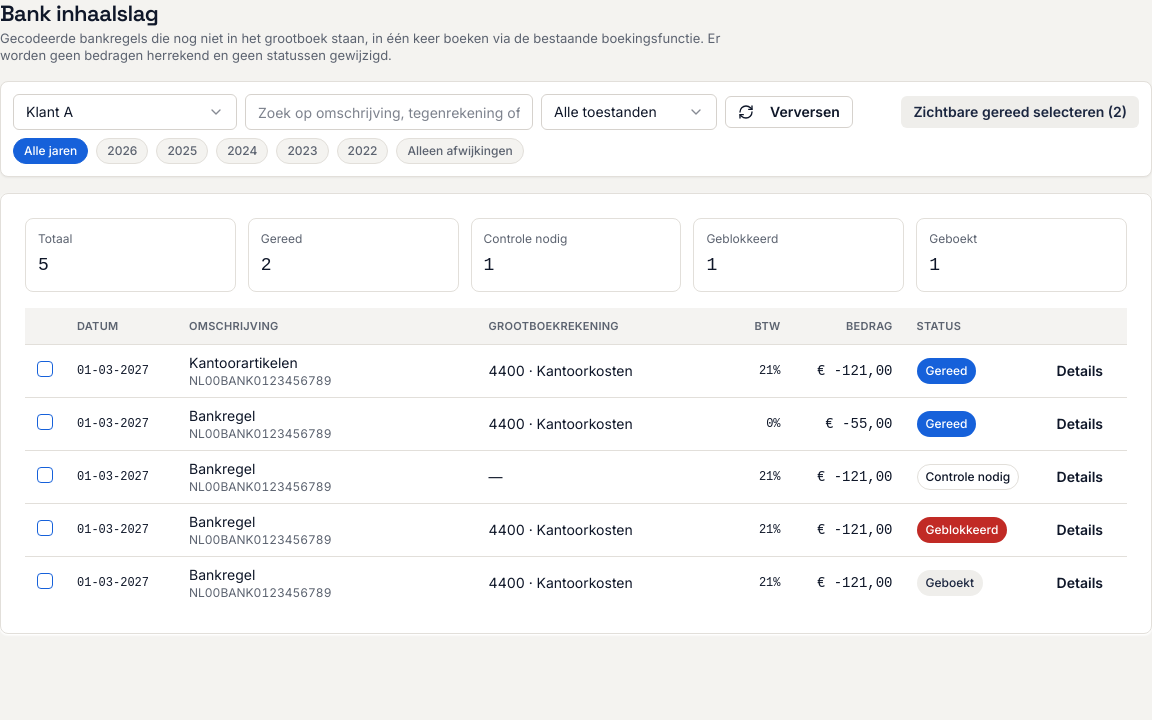
bevestiging en aanroep › 9. de dialoog noemt het werkelijke aantal
Click the checkbox with test id "inhaalslag-checkbox" in the row of "Kantoorartikelen".
click(45, 369)  # box [37, 361, 53, 377]
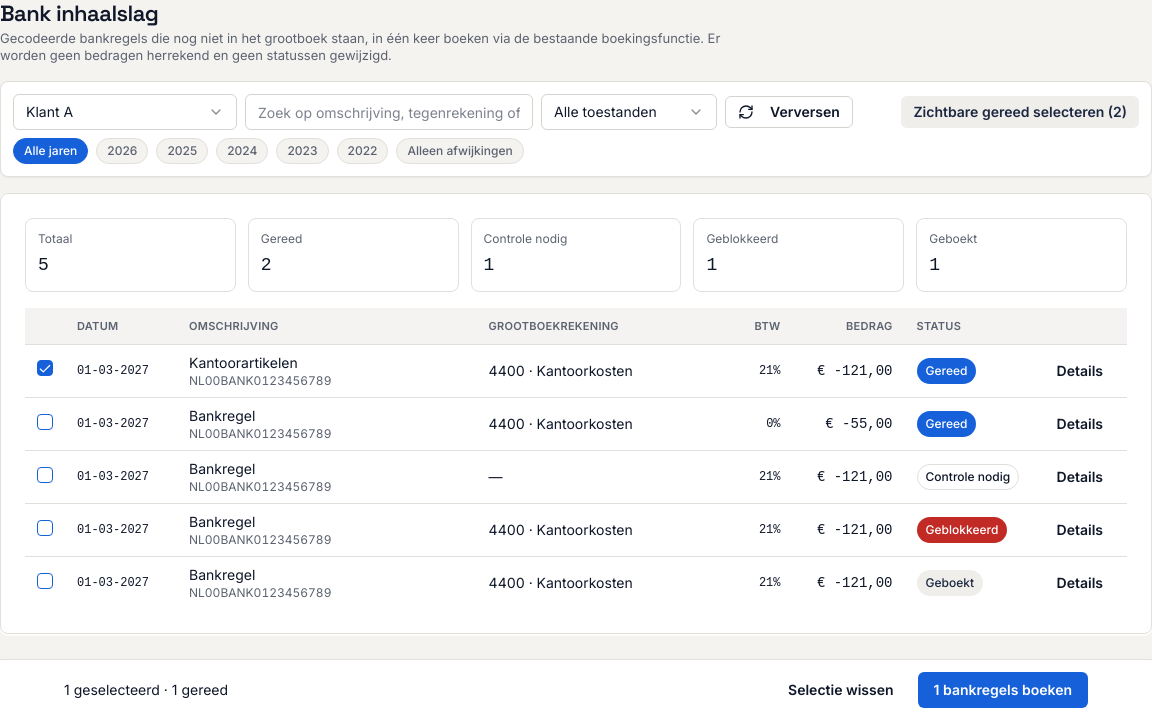
Click the 2nd checkbox with test id "inhaalslag-checkbox".
click(45, 422)  # box [37, 414, 53, 430]
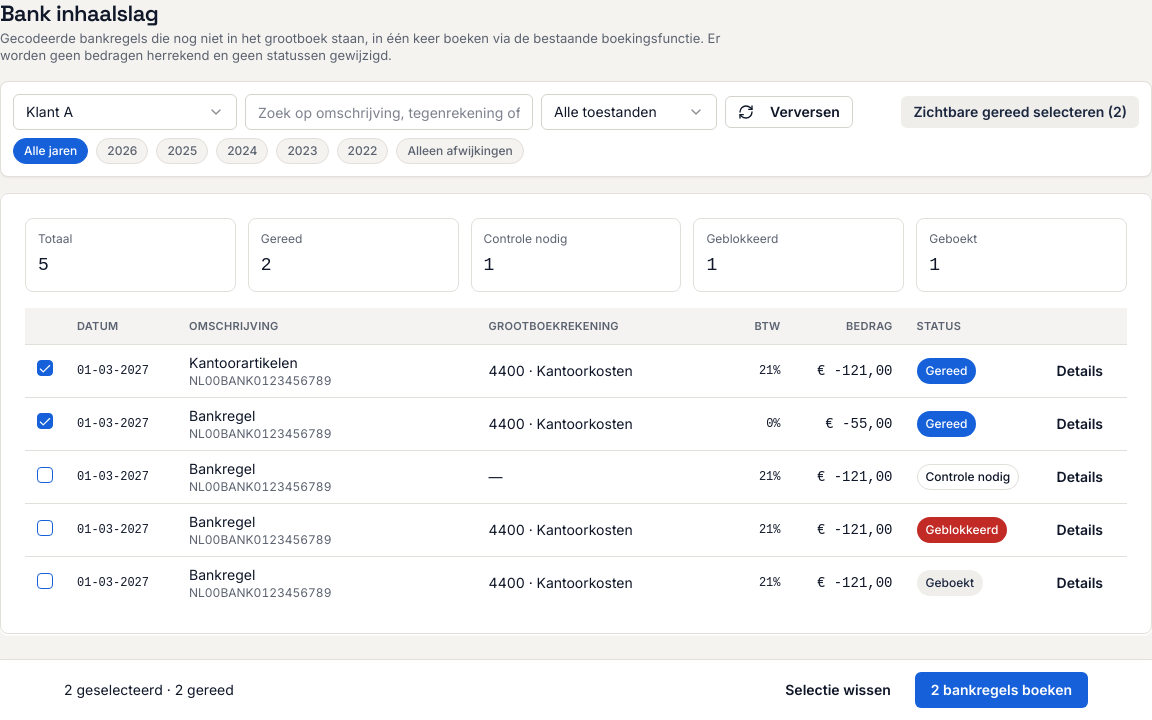
Click the button with test id "inhaalslag-bulk".
click(1001, 690)  # box [915, 672, 1088, 708]
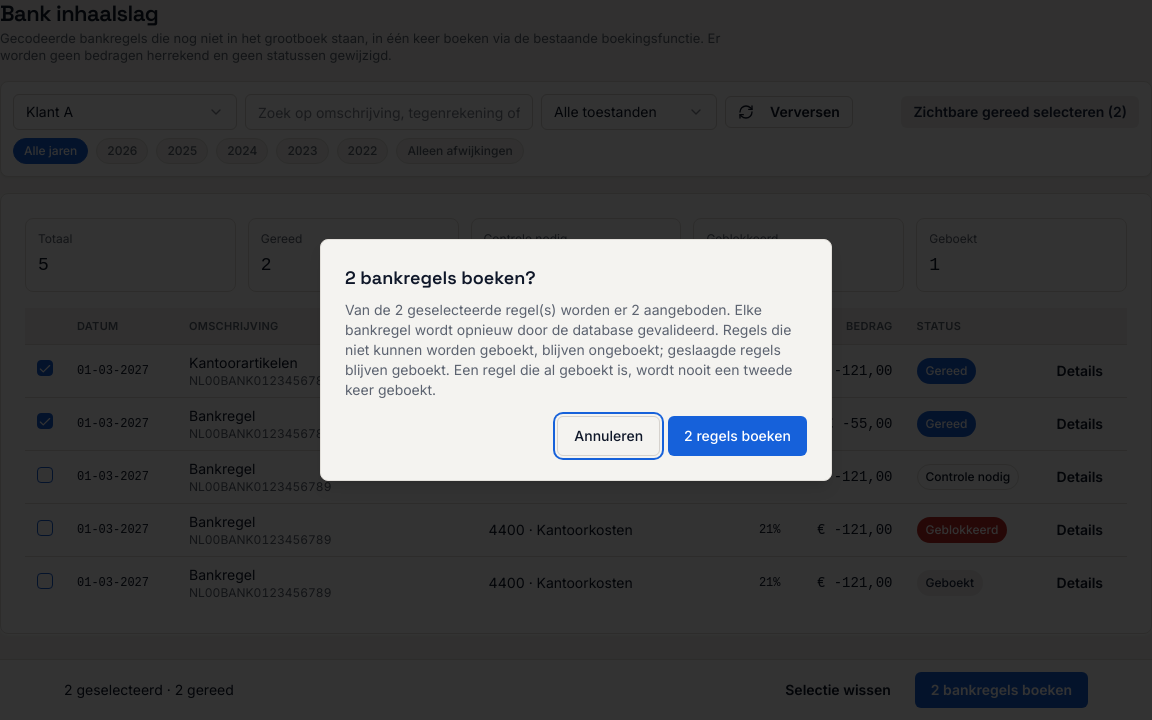
Result: the heading with test id "inhaalslag-dialog-titel" reads "2 bankregels boeken?" at [345, 266, 536, 289]
Result: the text with test id "inhaalslag-dialog-tekst" shows "worden er 2" at [345, 300, 807, 400]
Result: the text with test id "inhaalslag-dialog-tekst" shows "opnieuw door de database gevalideerd" at [345, 301, 792, 398]
